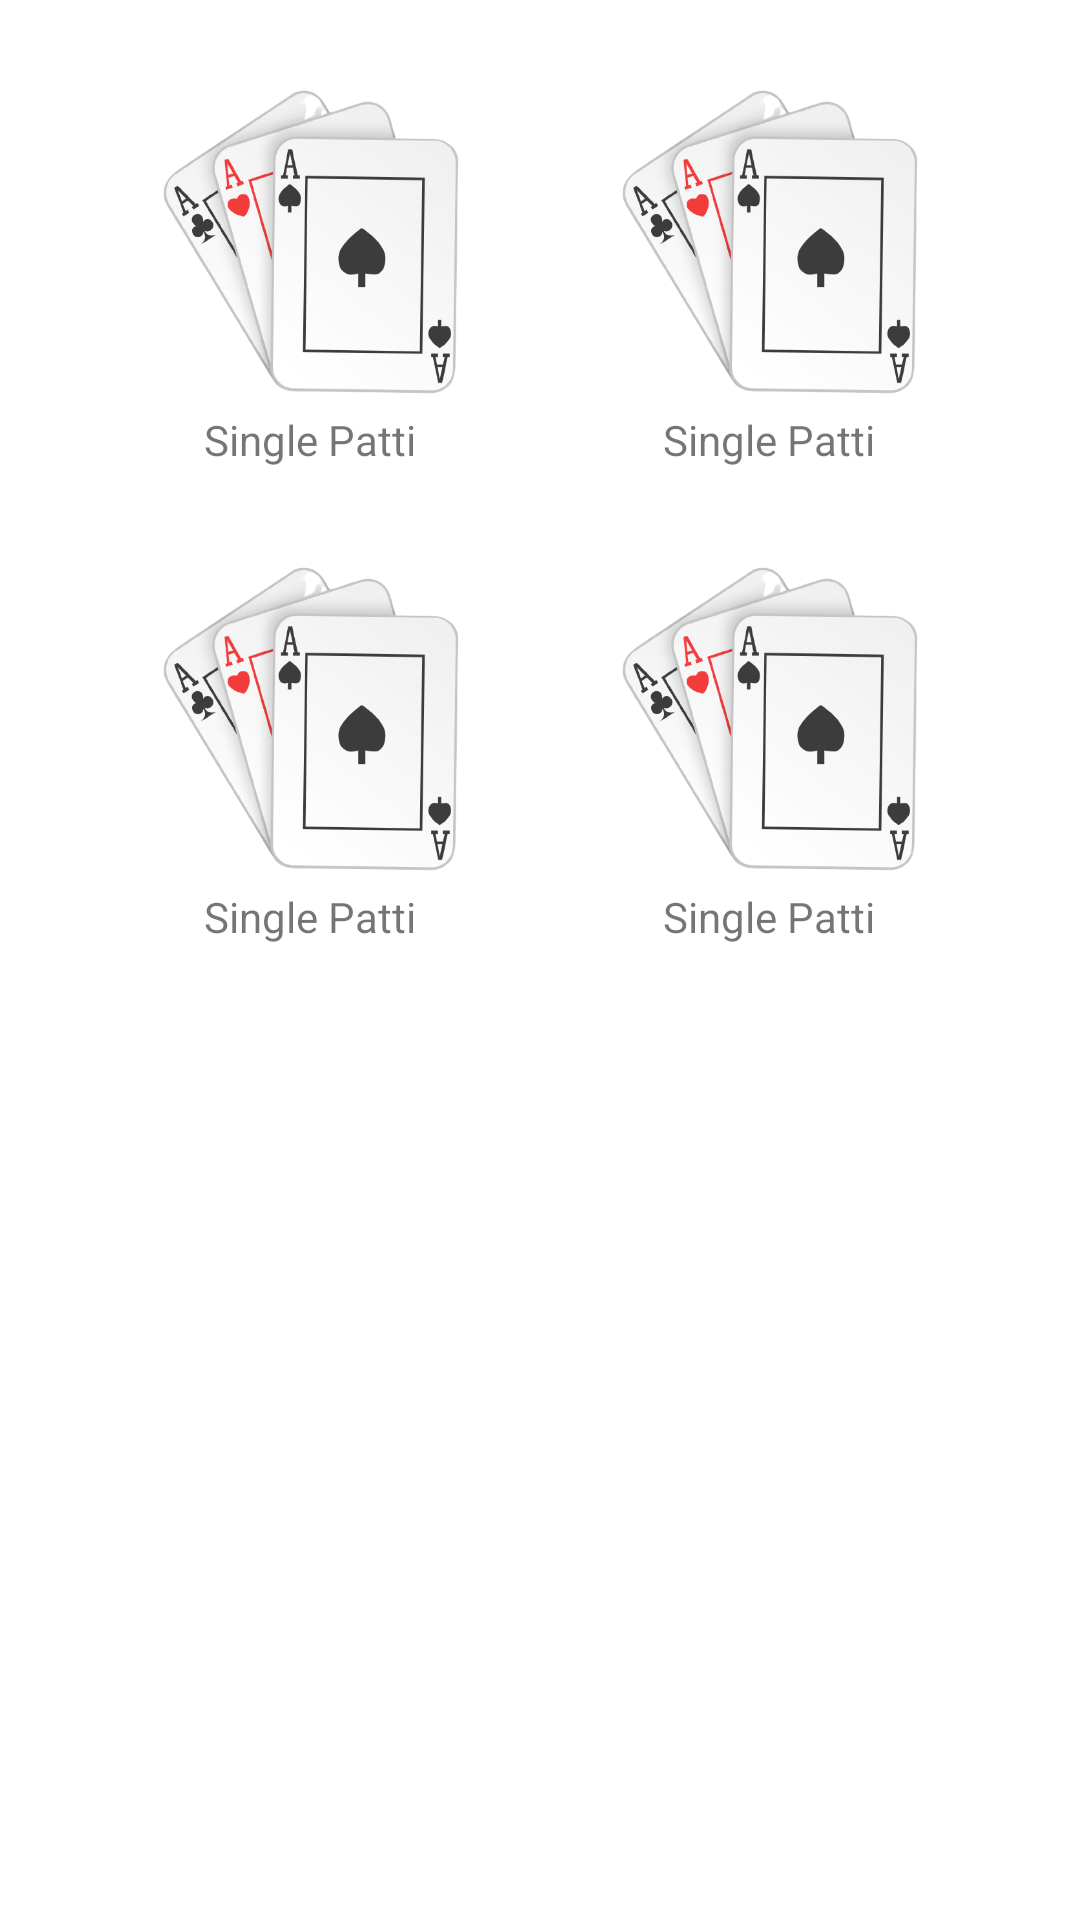

Icons on this 1080w x 1920h Android screen, each with its box as (x1, y1, x2, y2):
play card: (164, 91, 458, 393), (623, 91, 917, 393), (164, 568, 458, 870), (623, 568, 917, 870)
